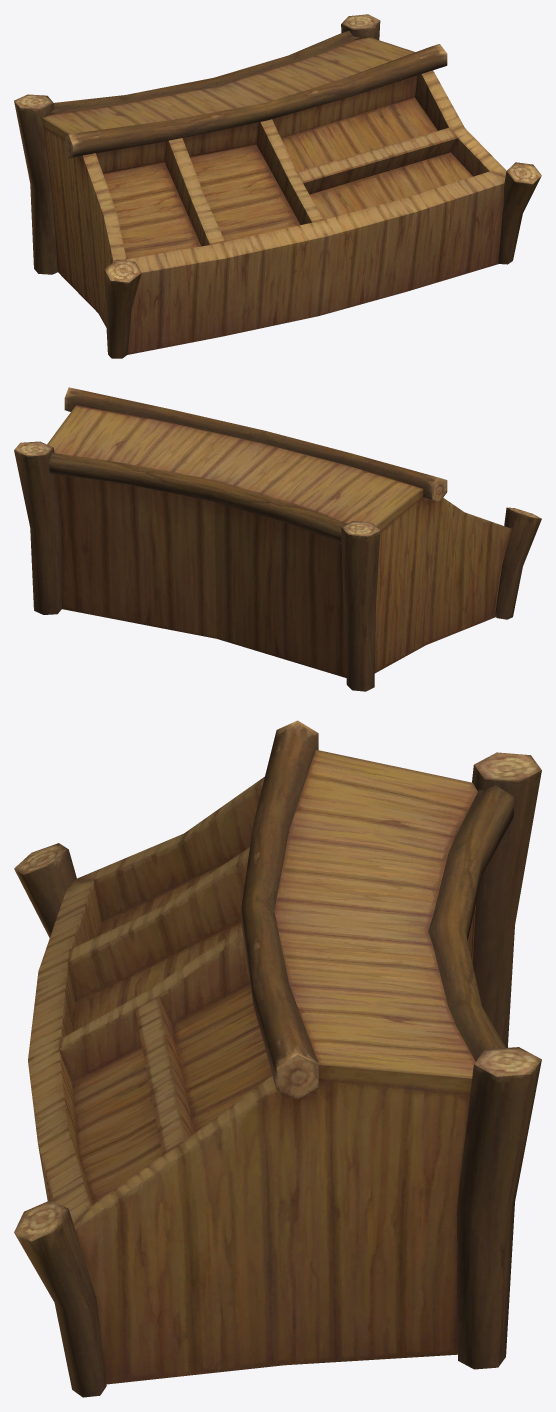
3 renders of one model, top to bottom at view 1: azimuth 30°, elevation 25°; view 2: azimuth 150°, elevation 25°; view 3: azimuth 270°, elevation 25°, orthographic. The views are drawn at different scales.
Parts seen in each view (by area): view 1: UC04502; view 2: UC04502; view 3: UC04502.
Part boxes in pixels (<box>): UC04502: <box>14,14,541,358</box>; UC04502: <box>14,387,541,691</box>; UC04502: <box>14,720,541,1397</box>.
Bounding box in the file's own units: 8.16 × 3.23 × 4.68.
